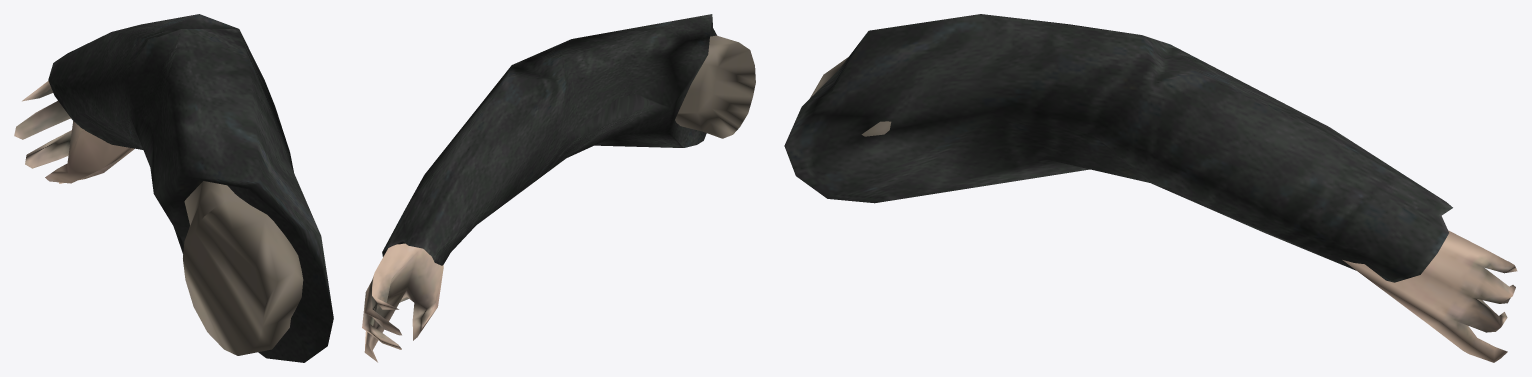
The model's file is dest_nt_nuked_male_01_arm_left_LOD2.obj.
3 renders of one model, left to right at view 1: azimuth 30°, elevation 25°; view 2: azimuth 150°, elevation 25°; view 3: azimuth 270°, elevation 25°, orthographic. The views are drawn at different scales.
Parts seen in each view (by area): view 1: mtl_nt_2020_manne_male01_jacket1, mtl_nt_2020_manne_male01_head1; view 2: mtl_nt_2020_manne_male01_jacket1, mtl_nt_2020_manne_male01_head1; view 3: mtl_nt_2020_manne_male01_jacket1, mtl_nt_2020_manne_male01_head1.
Boxes of the visible parts, x1,y1,x2,y2 form: mtl_nt_2020_manne_male01_jacket1: (48,14,333,362); mtl_nt_2020_manne_male01_head1: (14,81,303,355); mtl_nt_2020_manne_male01_jacket1: (382,14,716,265); mtl_nt_2020_manne_male01_head1: (362,35,755,362); mtl_nt_2020_manne_male01_jacket1: (784,14,1452,282); mtl_nt_2020_manne_male01_head1: (810,57,1517,362).
Size of the model in its own units: 22.01 by 30.49 by 69.5.
